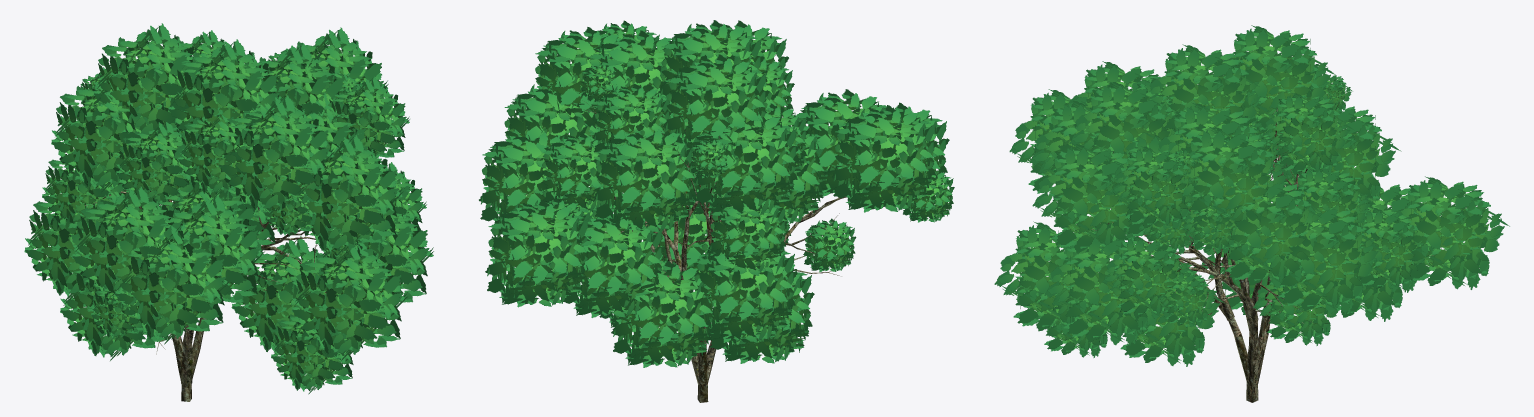
The model's file is stylized_tree.glb.
3 renders of one model, left to right at view 1: azimuth 30°, elevation 25°; view 2: azimuth 150°, elevation 25°; view 3: azimuth 270°, elevation 25°, orthographic. The views are drawn at different scales.
Parts seen in each view (by area): view 1: Tree_0; view 2: Tree_0; view 3: Tree_0.
Part boxes in pixels (x1,y1,x2,y2): Tree_0: (24,23,433,401); Tree_0: (479,20,954,402); Tree_0: (994,25,1509,402).
Bounding box in the file's own units: 10.35 × 9.34 × 12.42.
2 materials, 2 textured.
